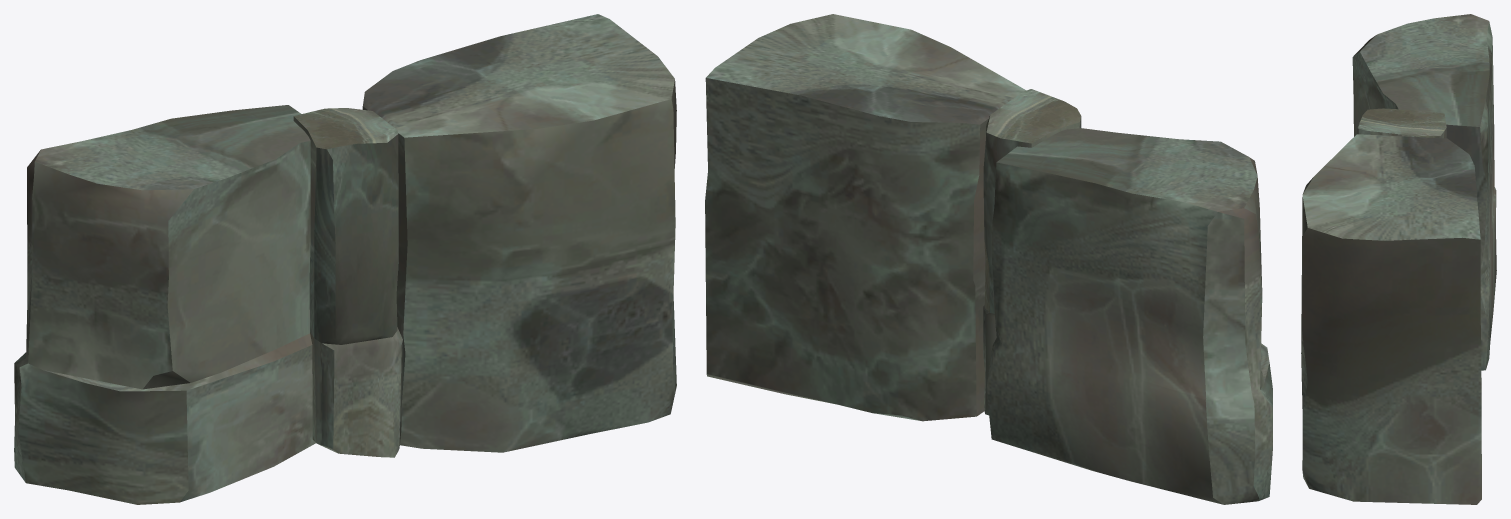
The model's file is Ruins_Wall_DMG_Edge_Top_A.fbx.
The picture shows the model from 3 angles, left to right: view 1: azimuth 30°, elevation 25°; view 2: azimuth 150°, elevation 25°; view 3: azimuth 270°, elevation 25°; orthographic projection. The views are drawn at different scales.
Parts seen in each view (by area): view 1: Ruins_Wall_DMG_Edge_Top_A; view 2: Ruins_Wall_DMG_Edge_Top_A; view 3: Ruins_Wall_DMG_Edge_Top_A.
Boxes of the visible parts, box(x1,y1,x2,y2) form: Ruins_Wall_DMG_Edge_Top_A: box(14, 14, 676, 504); Ruins_Wall_DMG_Edge_Top_A: box(705, 14, 1272, 504); Ruins_Wall_DMG_Edge_Top_A: box(1301, 14, 1496, 504).
Bounding box in the file's own units: 540 × 281 × 186.
